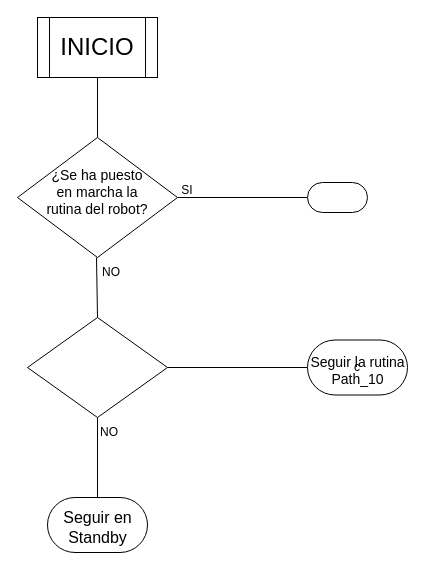
Image size: 435x570. Some labels were removed from this diagram. The centre of each missing label's shape, as x and y in pixels:
"Path_10" goes at point 337,197.
"¿Se está realizando la rutina ahora mismo?" goes at point 97,367.
